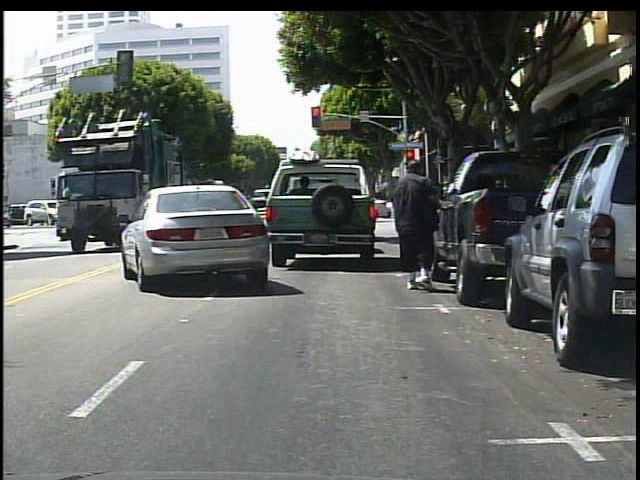person: (396, 158, 450, 293)
